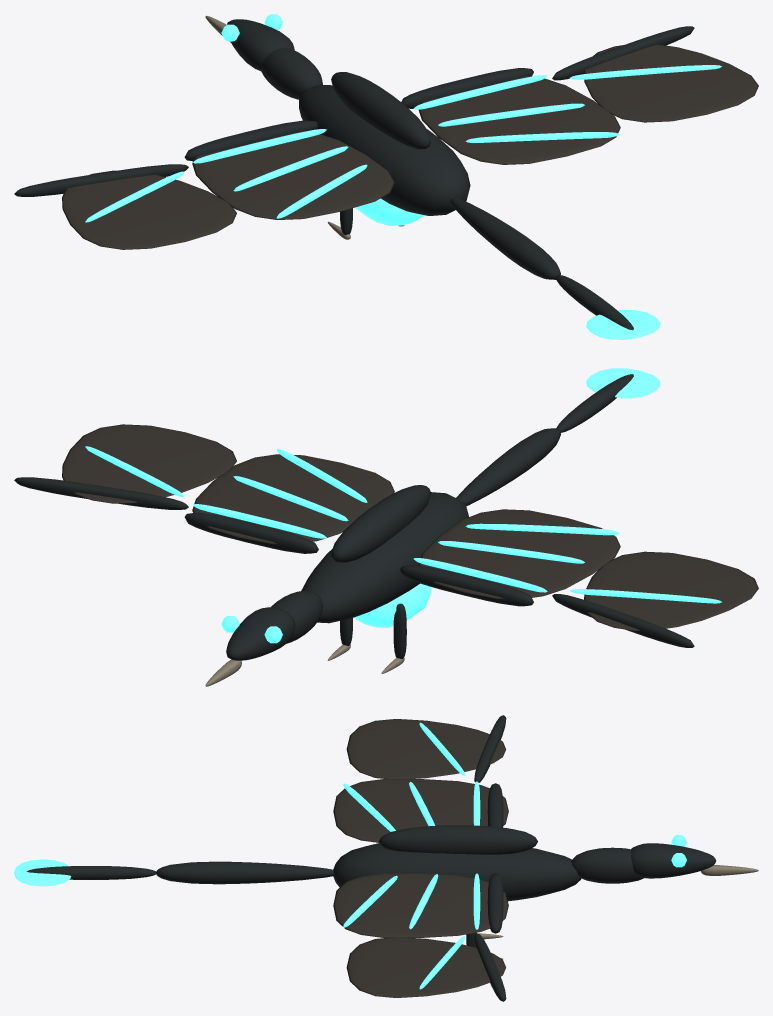
The model's file is skimmer.glb.
3 views of the same model, one above another, from view 1: azimuth 30°, elevation 25°; view 2: azimuth 150°, elevation 25°; view 3: azimuth 270°, elevation 25° (orthographic). The views are drawn at different scales.
Visible parts, largest first — view 1: webL, webR, tipwebL, tipwebR, torso, keel, tail, neck, fingerL, skull, fingerR, armL (+12 smaller); view 2: webL, webR, tipwebR, tipwebL, torso, keel, tail, skull, armR, armL, fingerR, fingerL (+13 smaller); view 3: webR, torso, tipwebR, tipwebL, webL, keel, tail, skull, neck, tail_tip, tail_fin, armR (+3 smaller).
Part boxes in pixels (<box>): webL: <box>192,131,394,219</box>; webR: <box>418,76,620,164</box>; tipwebL: <box>62,170,236,249</box>; tipwebR: <box>584,44,758,122</box>; torso: <box>299,85,470,215</box>; keel: <box>331,72,430,149</box>; tail: <box>450,197,560,279</box>; neck: <box>261,47,322,99</box>; fingerL: <box>14,164,188,196</box>; skull: <box>227,19,294,70</box>; fingerR: <box>552,26,694,80</box>; armL: <box>184,120,318,161</box>; webL: <box>418,509,620,599</box>; webR: <box>192,454,394,543</box>; tipwebR: <box>62,424,236,503</box>; tipwebL: <box>584,551,758,630</box>; torso: <box>301,492,468,623</box>; keel: <box>331,485,430,562</box>; tail: <box>456,428,560,506</box>; skull: <box>226,607,295,660</box>; armR: <box>184,512,318,553</box>; armL: <box>400,565,533,606</box>; fingerR: <box>14,477,188,509</box>; fingerL: <box>552,594,694,647</box>; webR: <box>333,873,508,937</box>; torso: <box>333,843,581,901</box>; tipwebR: <box>346,937,505,997</box>; tipwebL: <box>346,719,505,778</box>; webL: <box>333,779,508,842</box>; keel: <box>378,825,537,854</box>; tail: <box>156,861,333,884</box>; skull: <box>631,843,716,878</box>; neck: <box>571,847,644,883</box>; tail_tip: <box>26,866,155,879</box>; tail_fin: <box>14,859,71,886</box>; armR: <box>487,873,503,933</box>.
Bounding box in the file's own units: 2.53 × 0.5116 × 2.8.
